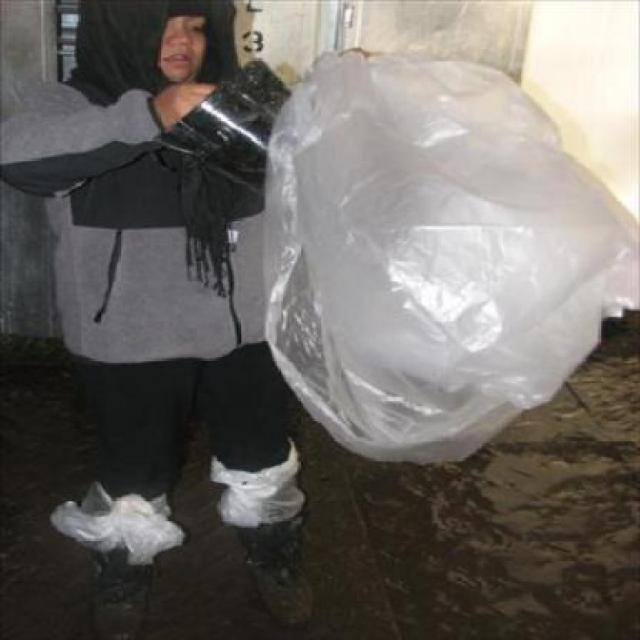plastic bag: (263, 46, 639, 462), (48, 479, 189, 566), (203, 432, 311, 525)
